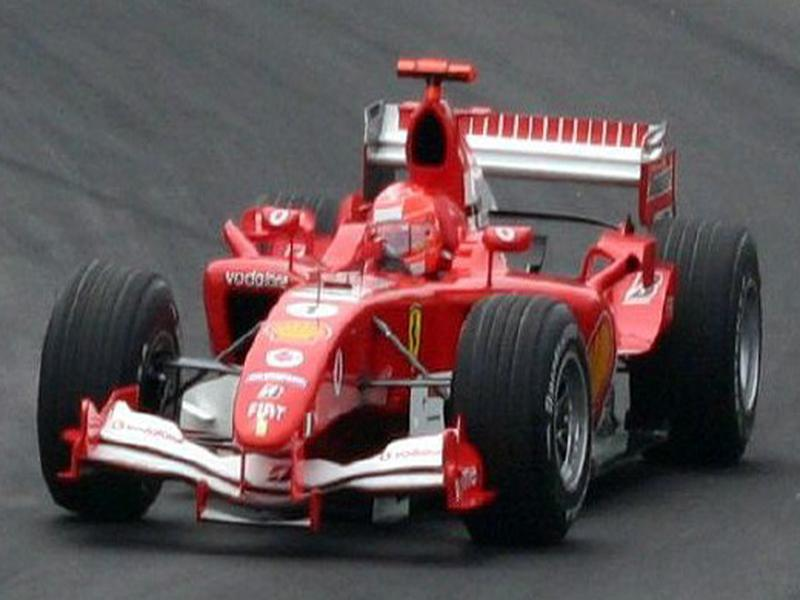f1: (50, 69, 768, 534)
